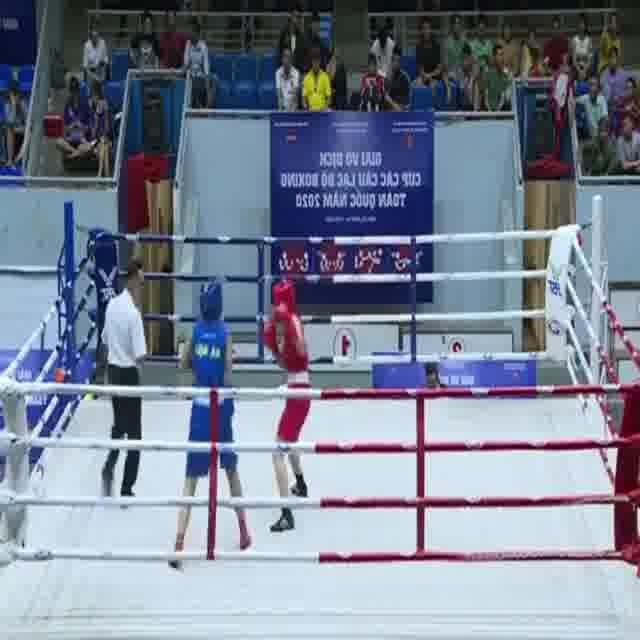blue-player: (163, 277, 254, 572)
red-player: (257, 278, 315, 537)
referee: (99, 253, 150, 509)
